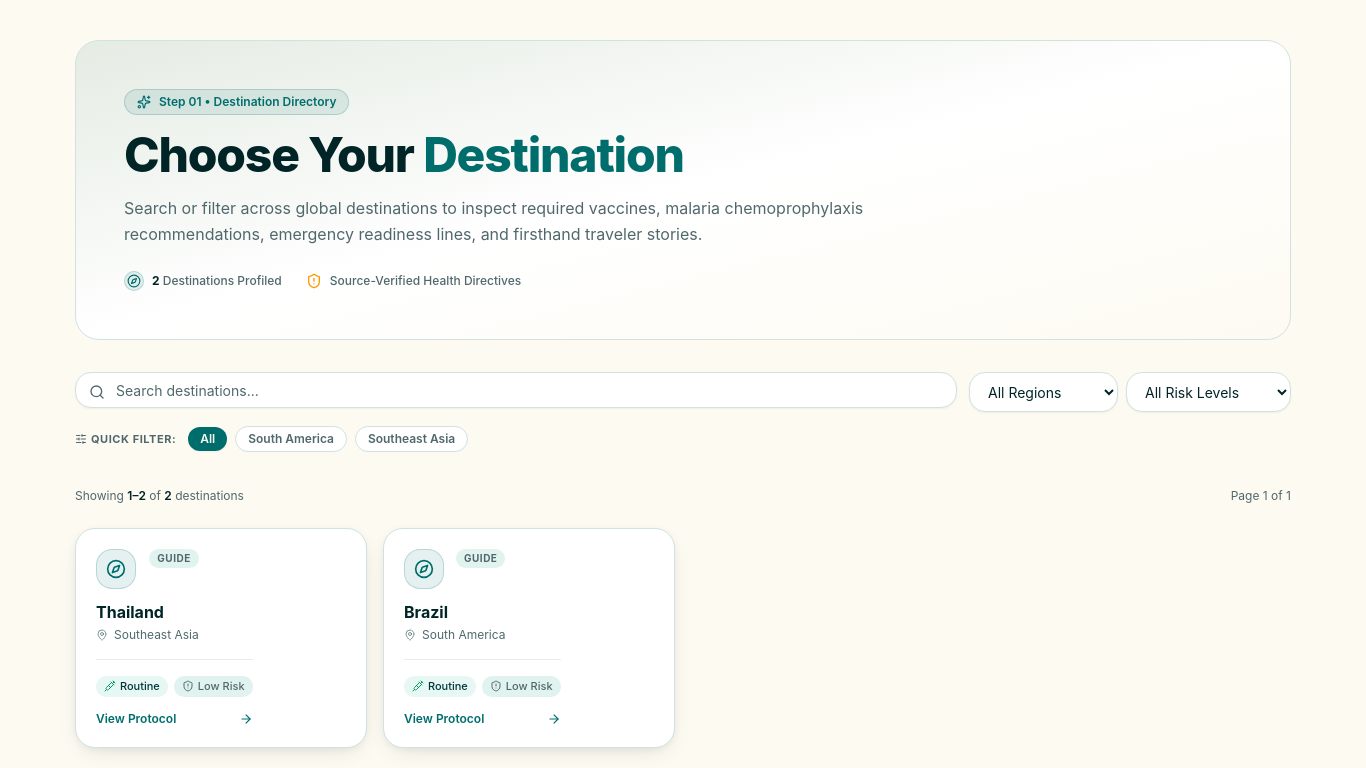
DestinationsPage › filters destinations as the user types in the search box
expect the heading "Thailand" is shown: met, box [96,602,164,622]
Type "thai" into the field with placeholder "Search destinations...". click: (516, 390)
box: [75,372,957,408]
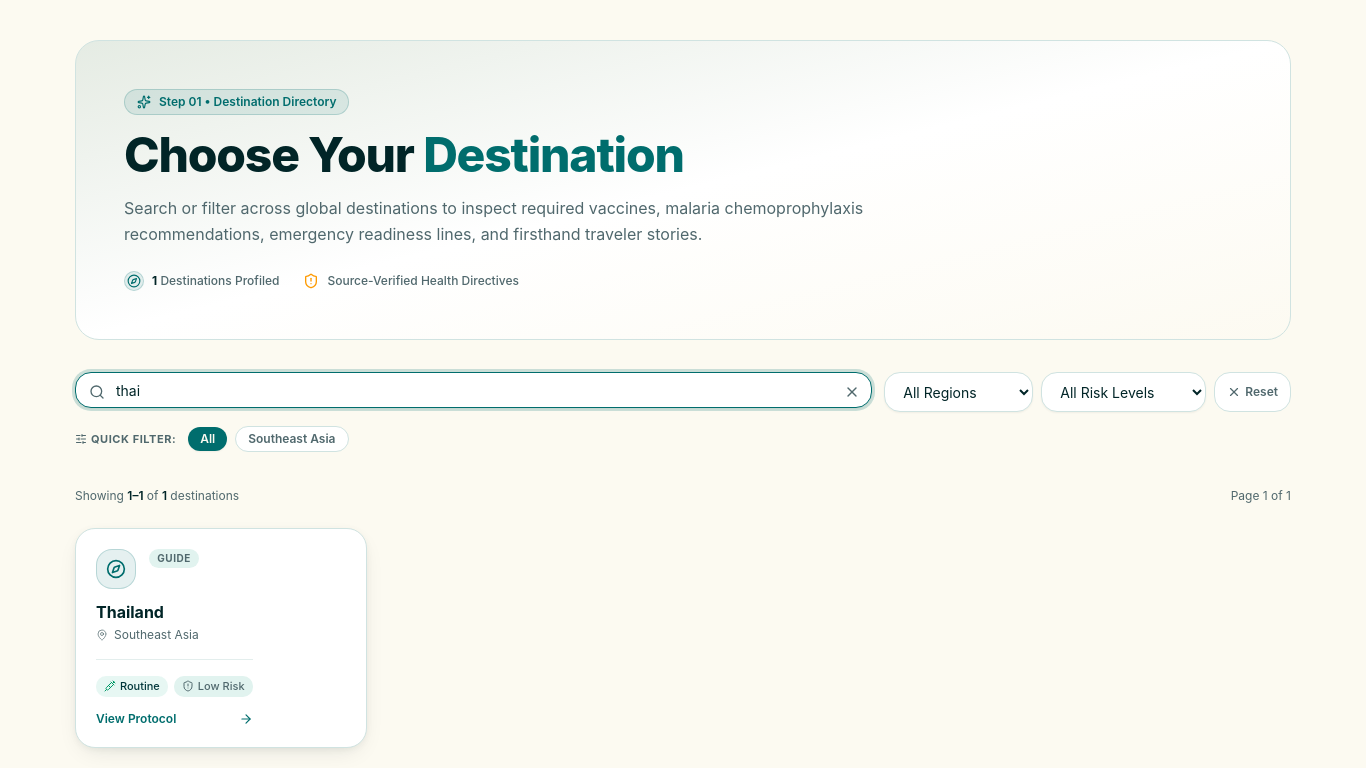
expect the heading "Thailand" is shown: met, box [96,602,164,622]
expect the button "Brazil" is gone: met
